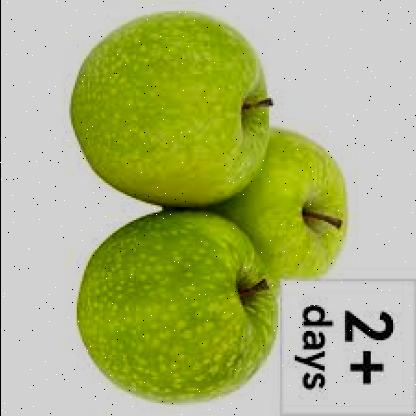apple: (66, 209, 278, 407), (68, 6, 256, 220), (232, 118, 360, 296)
